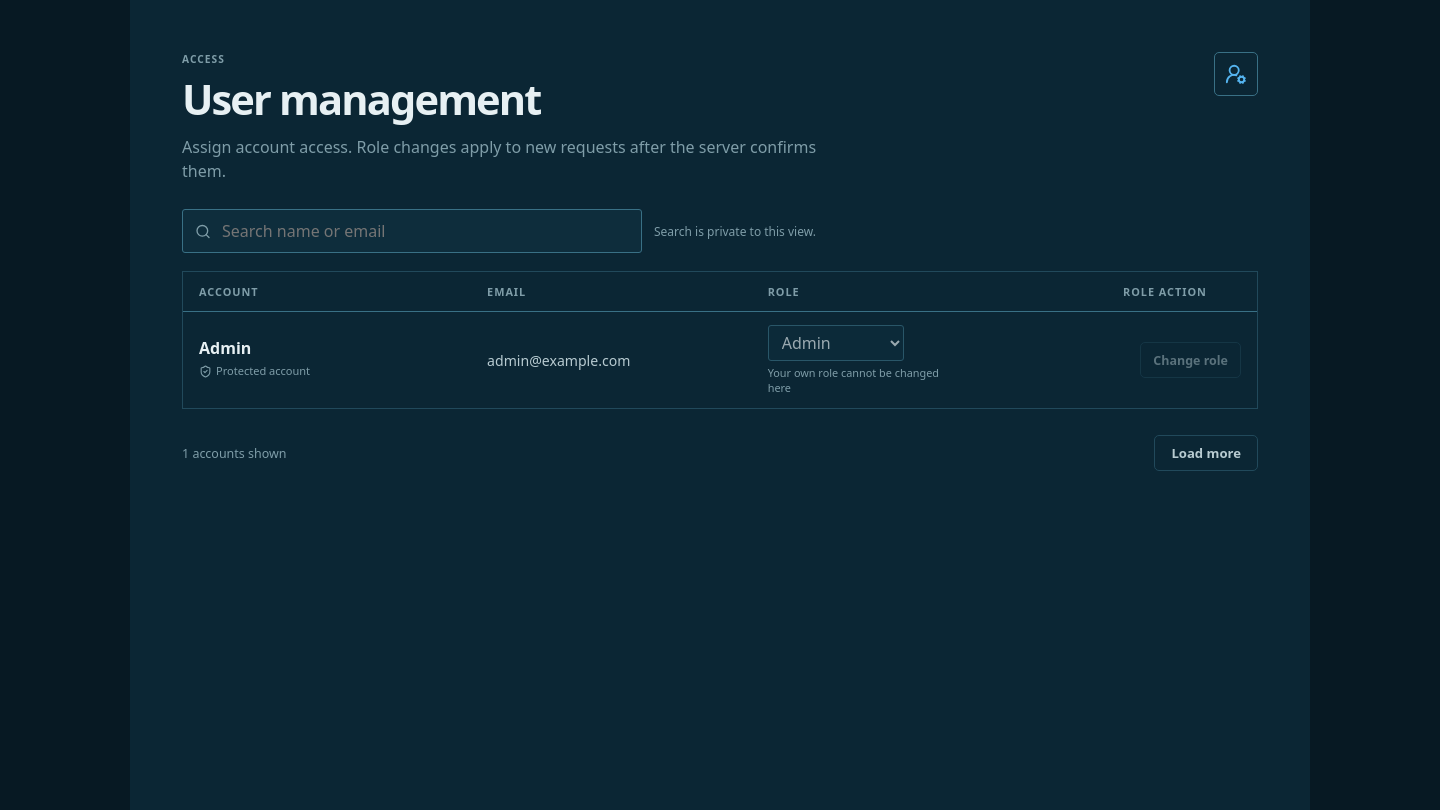
Test: UserManagementView › appends cursor results without duplicate accounts
This screenshot has width=1440, height=810.
expect the text "Admin" is shown: met, box [199,337,251,359]
Click the button "Load more".
click(1206, 453)  # box [1154,435,1258,471]
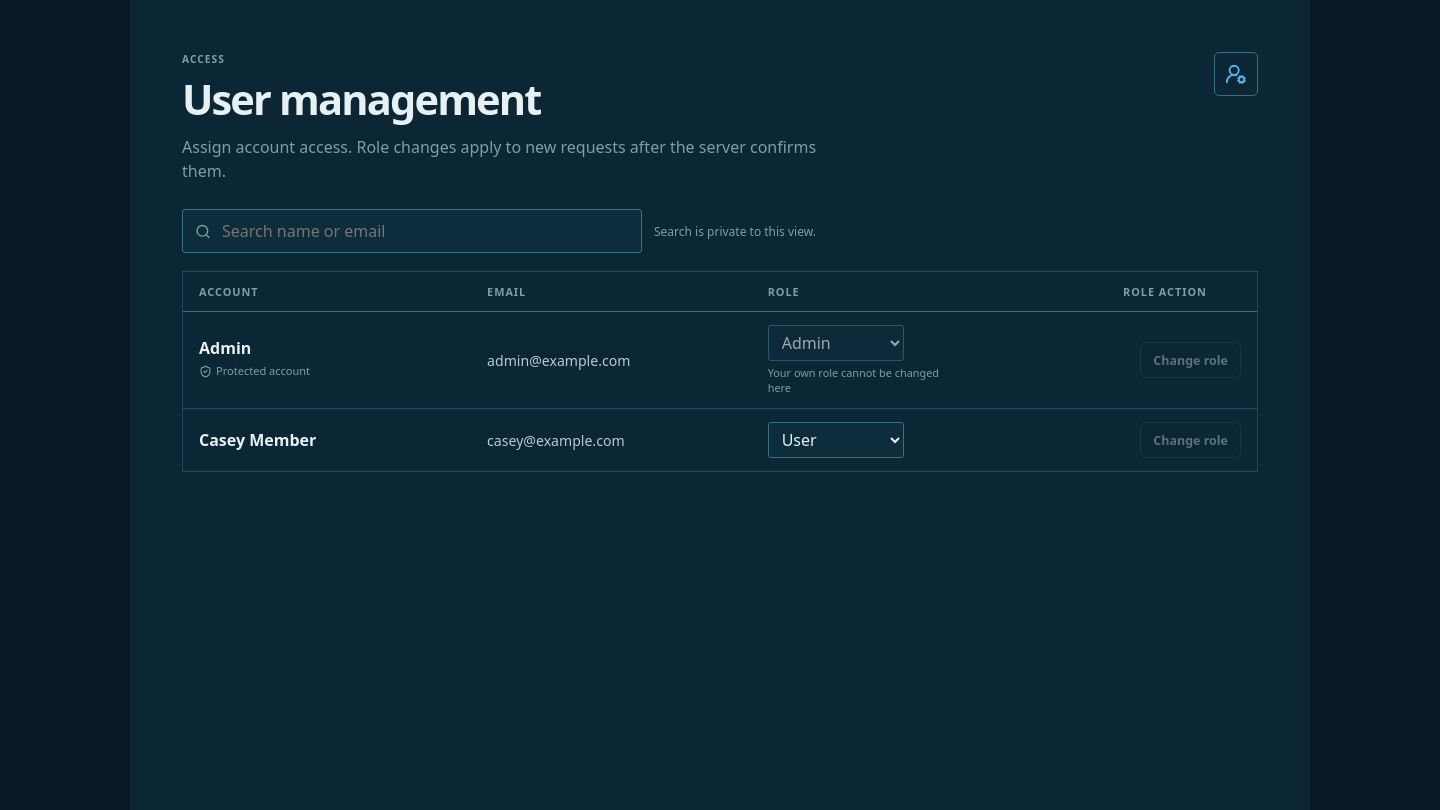
expect the text "Casey Member" is shown: met, box [199,429,316,451]
expect the text "admin@example.com" is shown once: met, box [471,312,752,409]
expect the button "Load more" is gone: met
